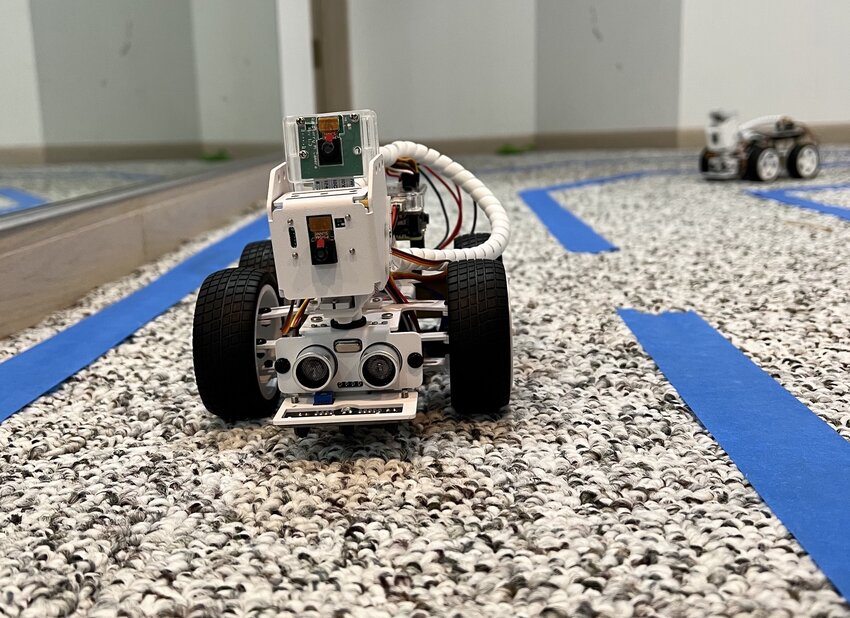vehicle: (187, 104, 517, 435)
